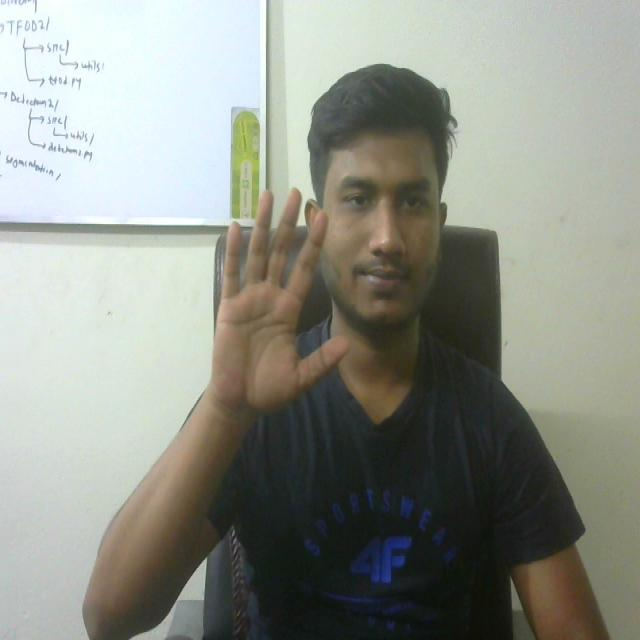Hello: (202, 181, 354, 425)
